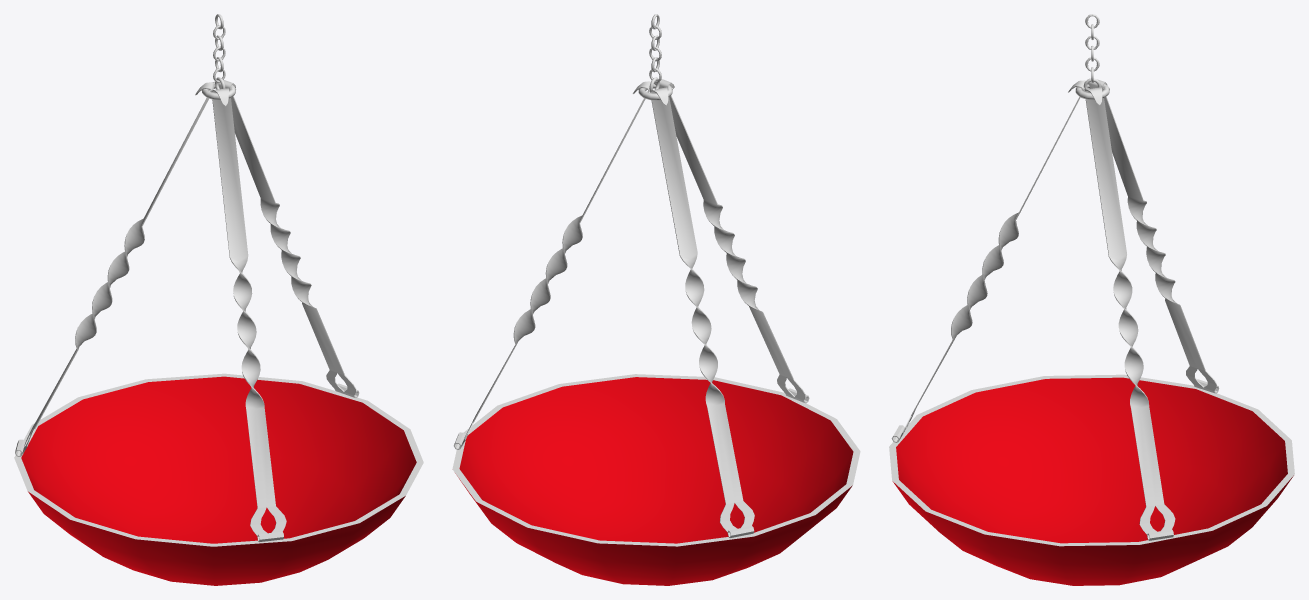
File: dish.fbx
3 renders of one model, left to right at view 1: azimuth 30°, elevation 25°; view 2: azimuth 150°, elevation 25°; view 3: azimuth 270°, elevation 25°, orthographic.
Visible parts, largest first — view 1: Dish; view 2: Dish; view 3: Dish.
Boxes of the visible parts, <box> form: Dish: <box>14,14,423,585</box>; Dish: <box>452,14,860,585</box>; Dish: <box>889,14,1294,585</box>.
Size of the model in its own units: 65.36 by 97.9 by 65.36.
